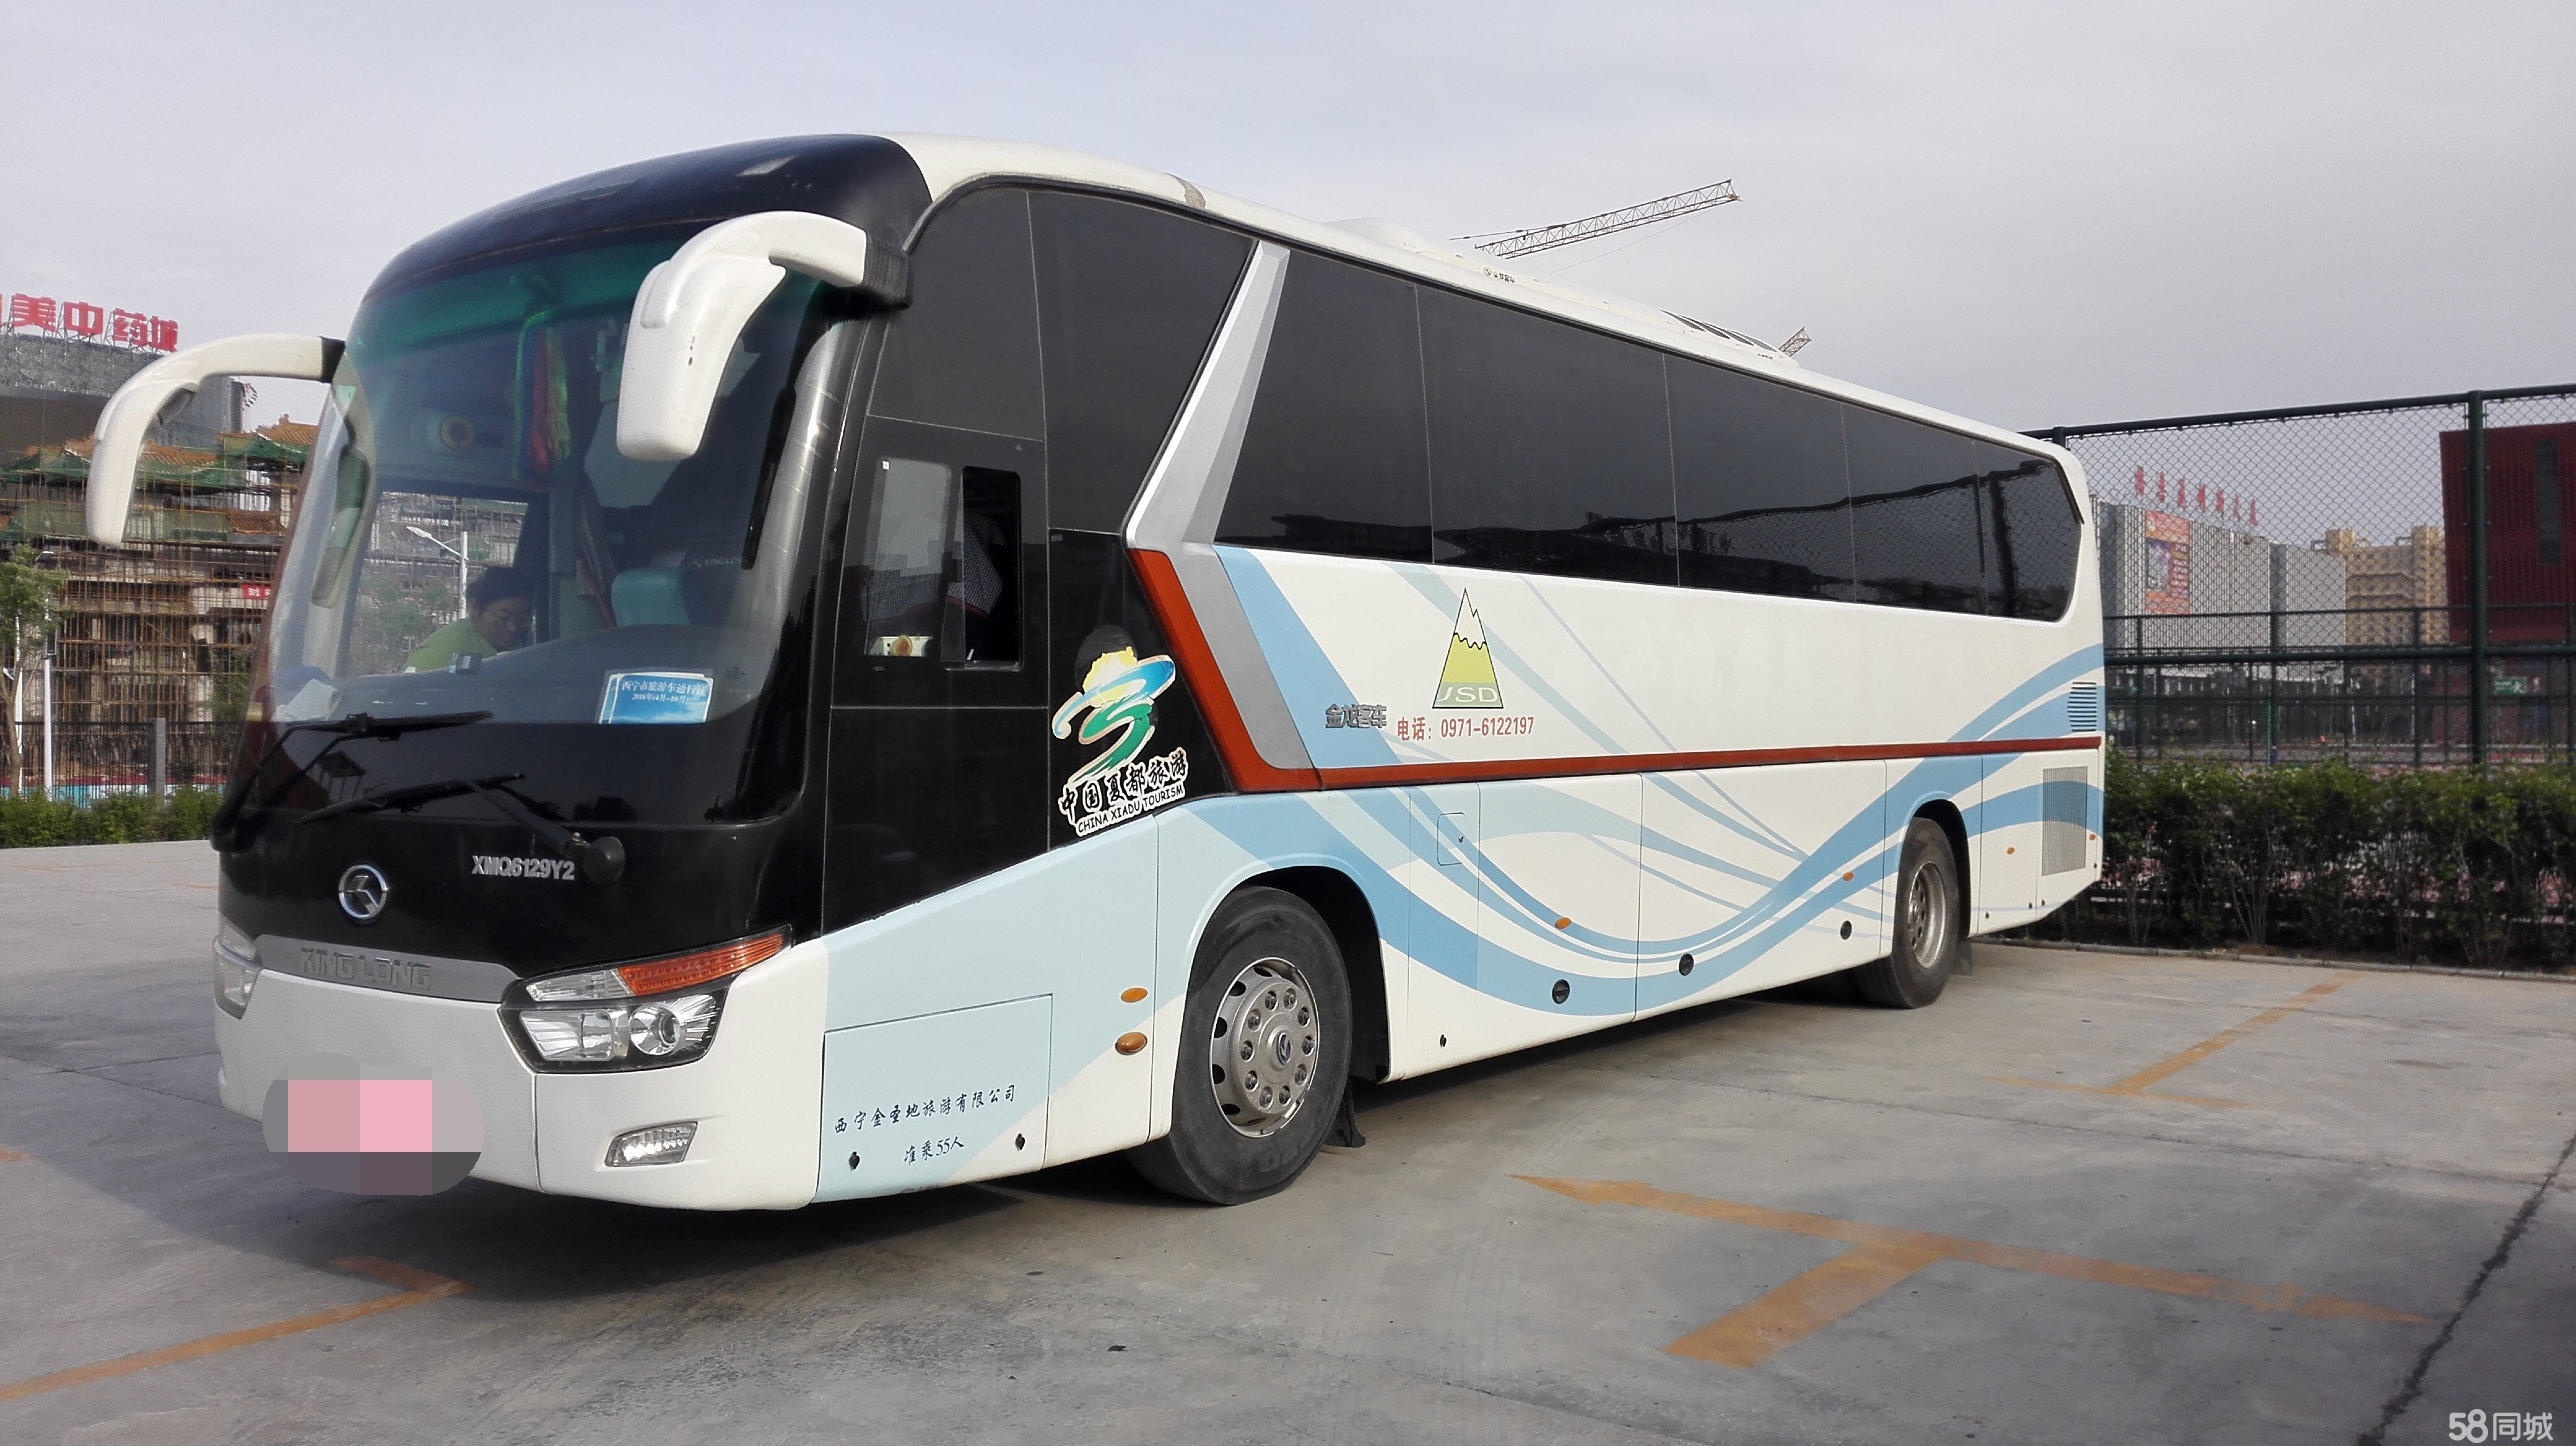bus: (44, 97, 2139, 1196)
